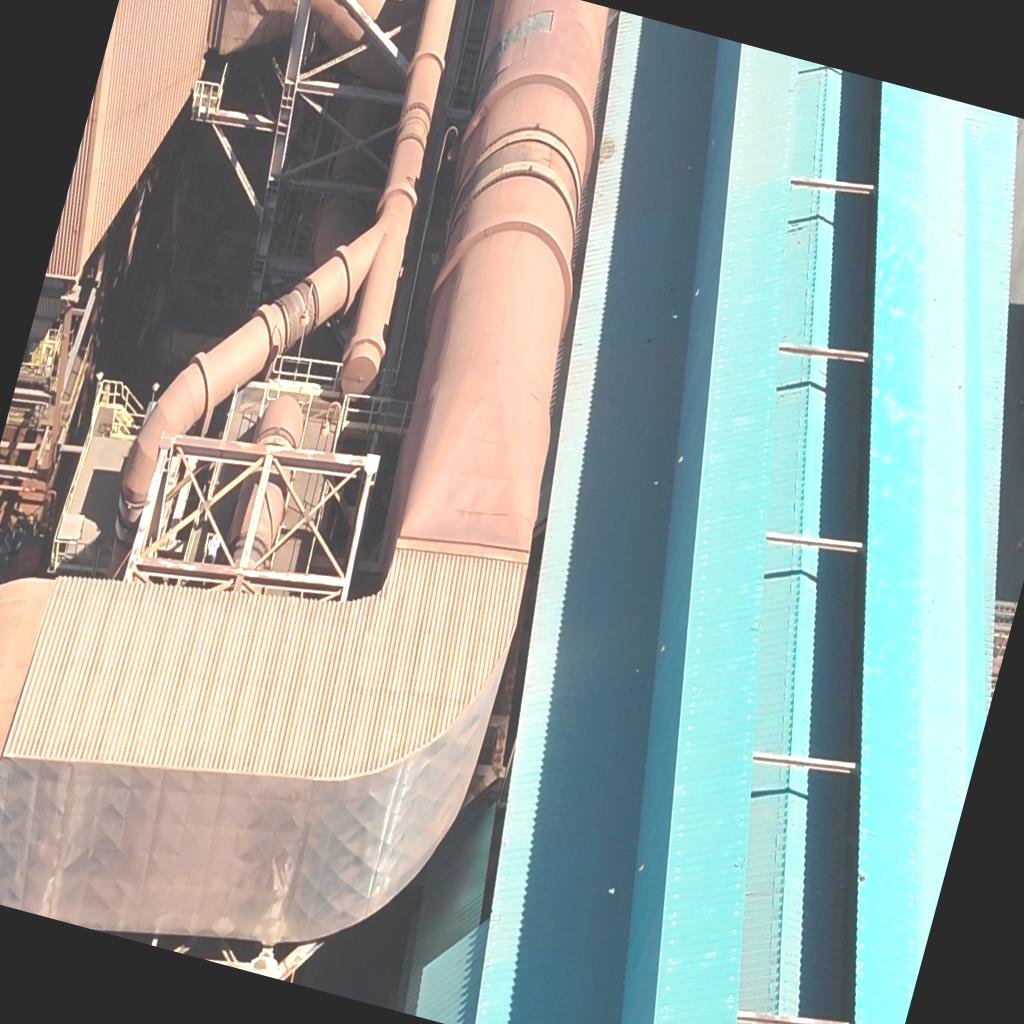Failures: (470, 0, 559, 105)
